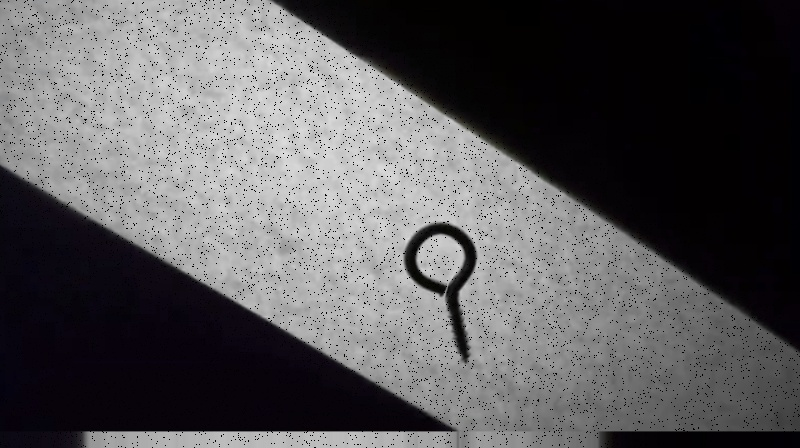O001: (398, 219, 479, 366)
